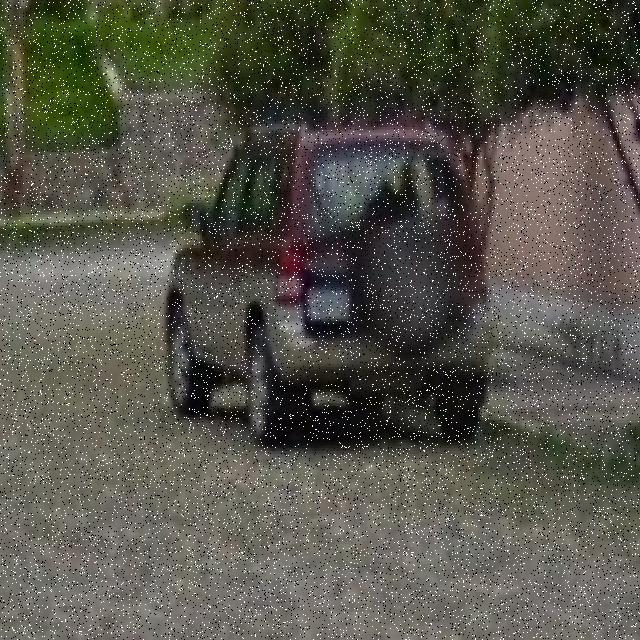cars: (162, 123, 489, 428)
